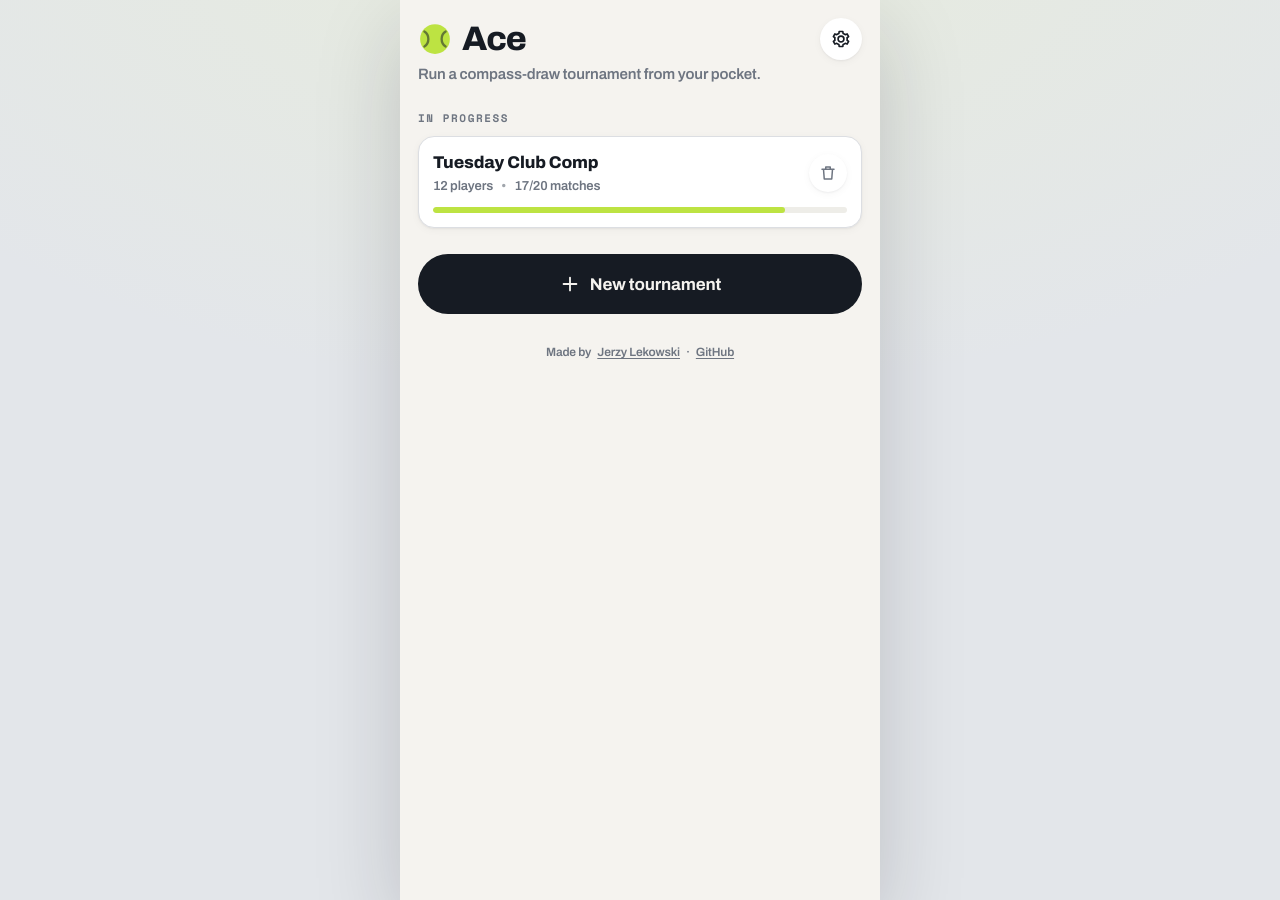
App › opens settings, toggles dark mode, and persists the choice
Click the button named "Settings" at (841, 39), box [820,18,862,60]
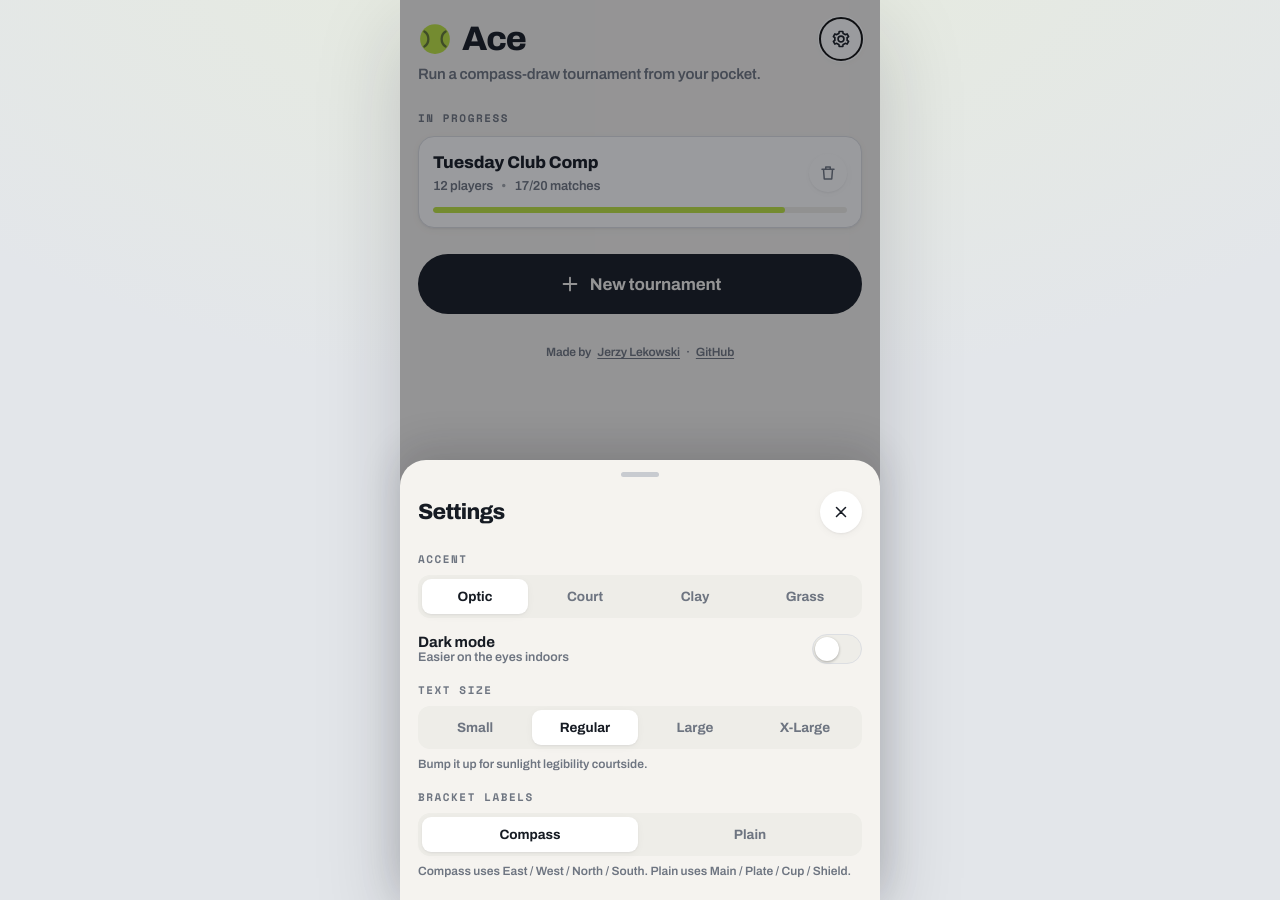
Check: the text "Dark mode" is shown, box [418,634,495,650]
Check: the text "Bracket labels" is shown, box [418,789,534,805]
Click the switch at (837, 649), box [812,634,862,664]
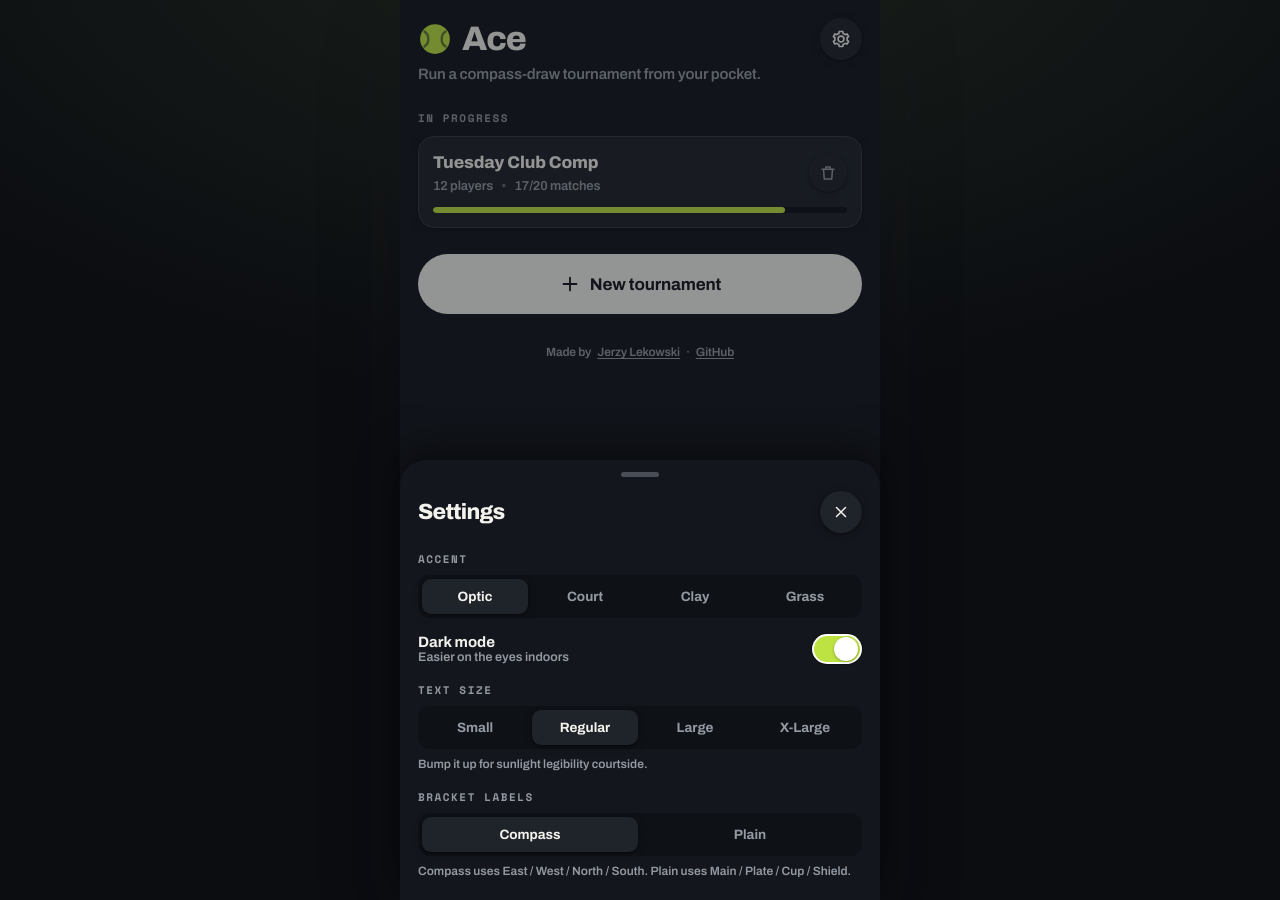
Click the button named "Close settings" at (841, 512), box [820,491,862,533]
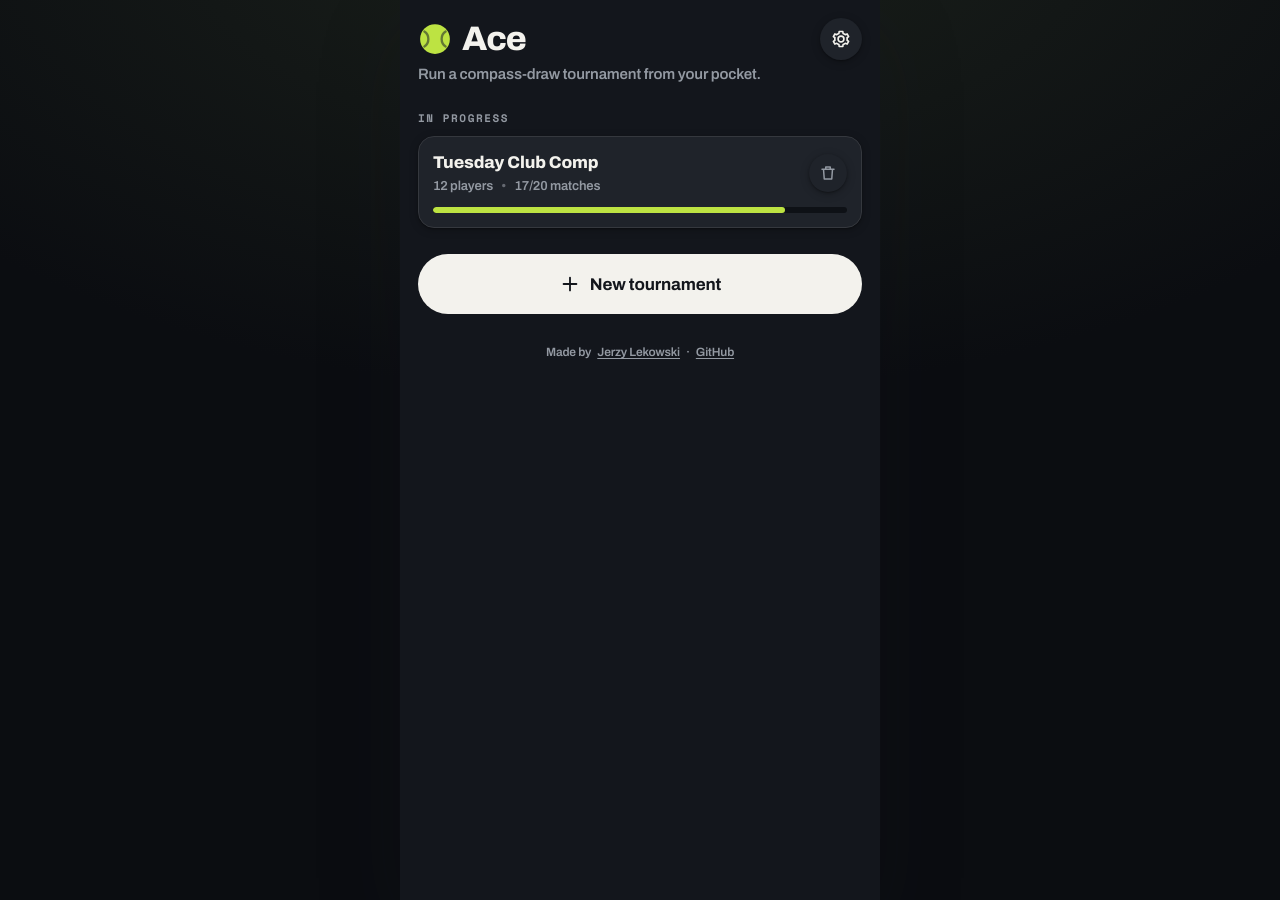
Check: the text "Bracket labels" is gone
